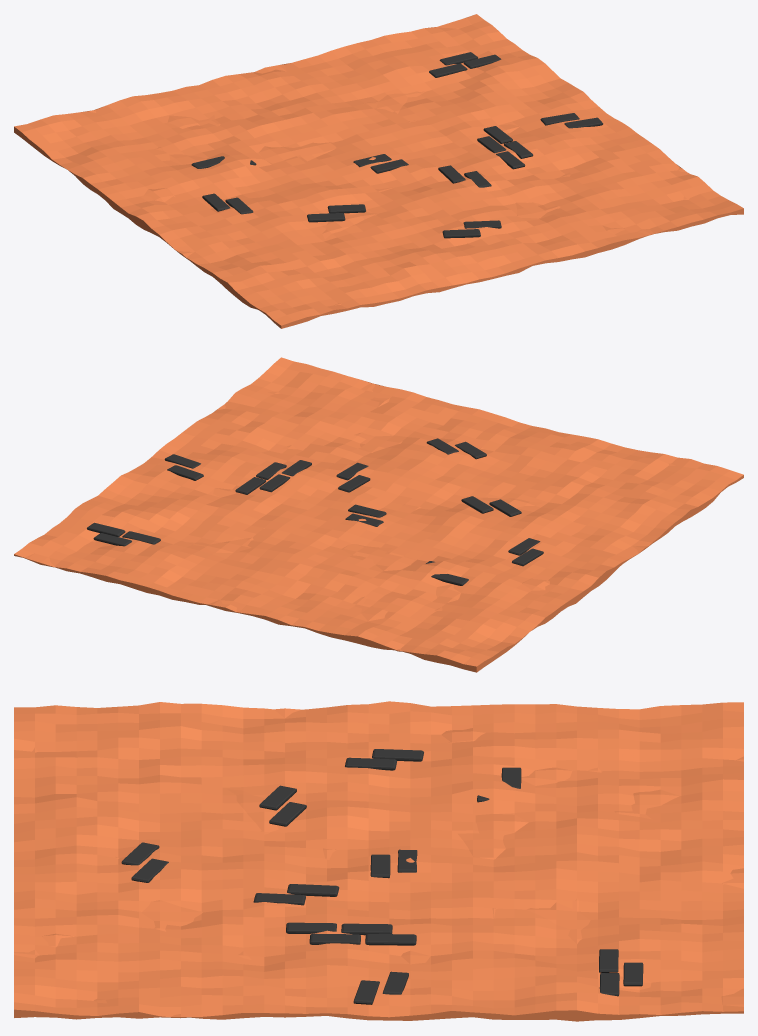
The model's file is ground.obj.
The picture shows the model from 3 angles, top to bottom: view 1: azimuth 30°, elevation 25°; view 2: azimuth 150°, elevation 25°; view 3: azimuth 270°, elevation 25°; orthographic projection. The views are drawn at different scales.
Parts seen in each view (by area): view 1: Plane.001; view 2: Plane.001; view 3: Plane.001, floor.031, floor.017, floor.013, floor.012, floor.032, floor.030, floor.029.
Part boxes in pixels (left/top/right/bottom): Plane.001: left=14, top=14, right=743, bottom=328; Plane.001: left=14, top=357, right=743, bottom=672; Plane.001: left=14, top=701, right=743, bottom=1021; floor.031: left=365, top=934, right=416, bottom=945; floor.017: left=287, top=884, right=339, bottom=896; floor.013: left=372, top=749, right=423, bottom=761; floor.012: left=345, top=757, right=396, bottom=770; floor.032: left=341, top=923, right=392, bottom=935; floor.030: left=309, top=933, right=360, bottom=944; floor.029: left=286, top=922, right=336, bottom=933.
Bounding box in the file's own units: 24 × 0.645 × 24.
